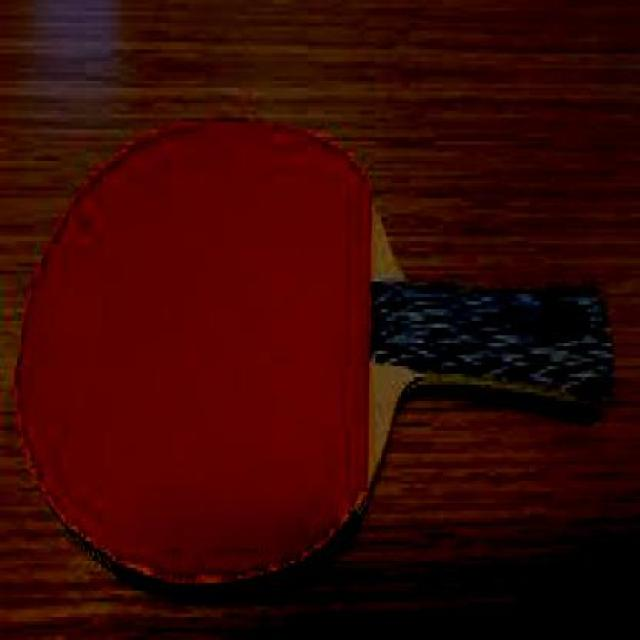table_tennis_racket: (12, 118, 622, 602)
